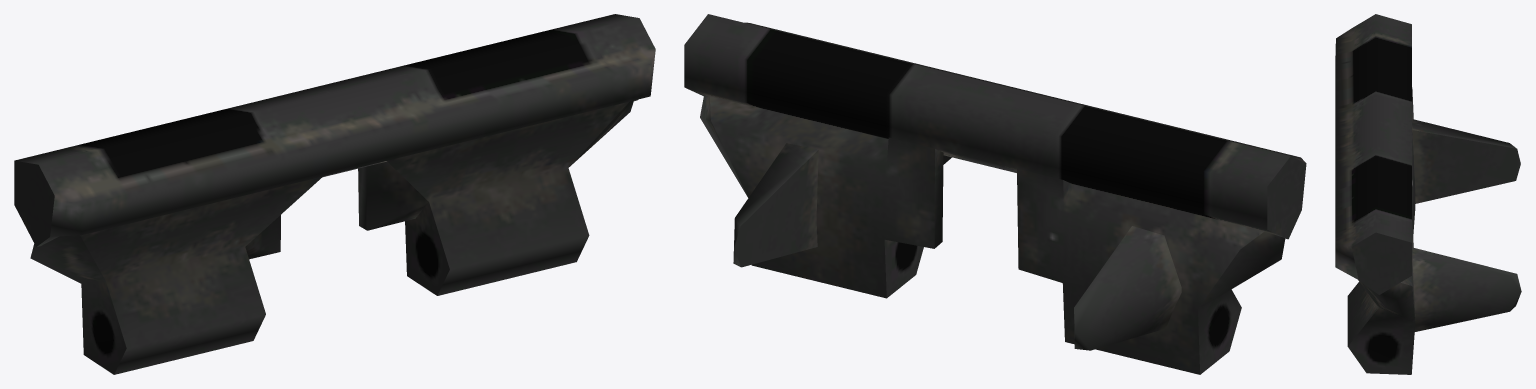
3 renders of one model, left to right at view 1: azimuth 30°, elevation 25°; view 2: azimuth 150°, elevation 25°; view 3: azimuth 270°, elevation 25°, orthographic. The views are drawn at different scales.
Visible parts, largest first — view 1: set_0_group_0; view 2: set_0_group_0; view 3: set_0_group_0.
Boxes of the visible parts, bbox=[...] form: set_0_group_0: bbox=[14, 14, 655, 374]; set_0_group_0: bbox=[684, 14, 1306, 374]; set_0_group_0: bbox=[1335, 14, 1521, 374].
Size of the model in its own units: 0.2168 by 0.0775 by 0.0781.
Materials: 1 (1 with a texture image).
